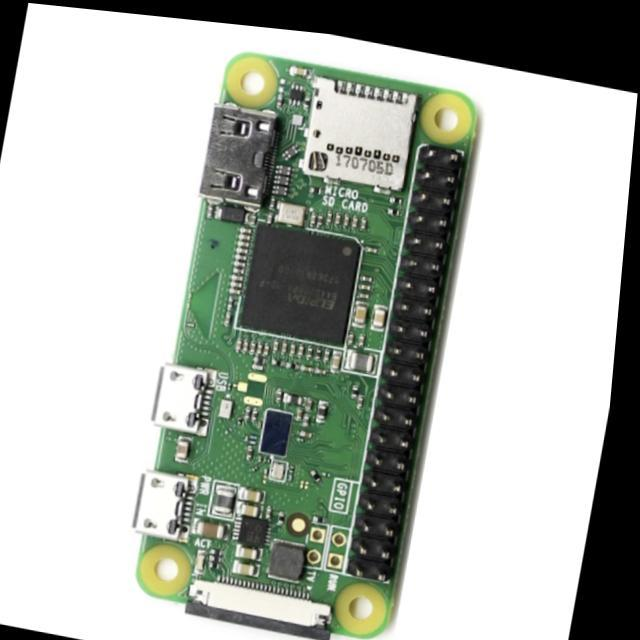Raspberry-Pi-Zero-WH: (133, 53, 479, 640)
